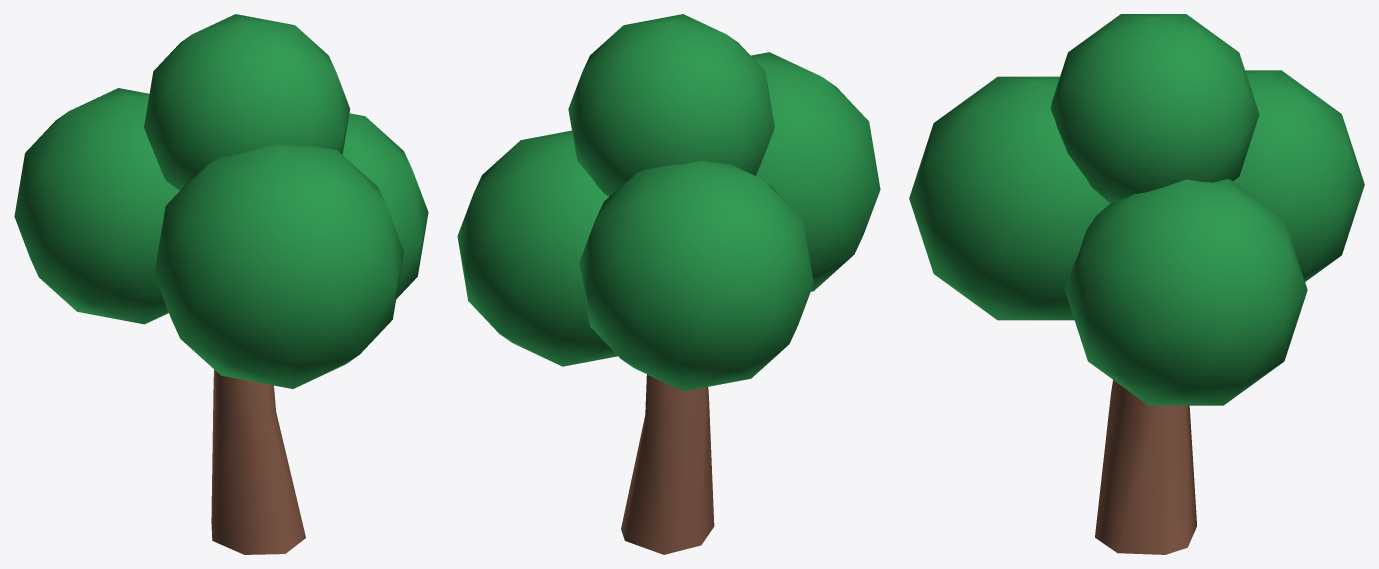
Rendered from tree_apple.glb.
3 views of the same model, side by side, from view 1: azimuth 30°, elevation 25°; view 2: azimuth 150°, elevation 25°; view 3: azimuth 270°, elevation 25° (orthographic).
Visible parts, largest first — view 1: Tree_apple.002; view 2: Tree_apple.002; view 3: Tree_apple.002.
Boxes of the visible parts, bbox=[...] form: Tree_apple.002: bbox=[14, 14, 428, 554]; Tree_apple.002: bbox=[457, 14, 880, 554]; Tree_apple.002: bbox=[909, 14, 1364, 554].
Bounding box in the file's own units: 1.59 × 2.24 × 1.8.
Materials: 1 (1 with a texture image).
